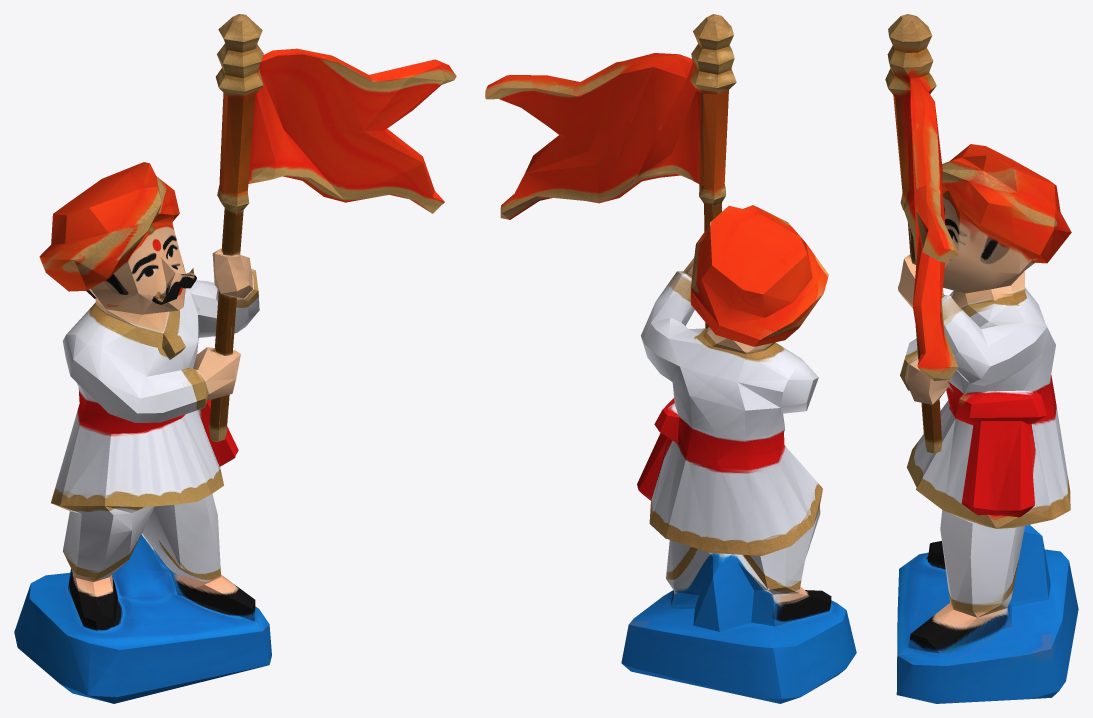
The model's file is Flag Bearer.glb.
The picture shows the model from 3 angles, left to right: view 1: azimuth 30°, elevation 25°; view 2: azimuth 150°, elevation 25°; view 3: azimuth 270°, elevation 25°; orthographic projection. The views are drawn at different scales.
Visible parts, largest first — view 1: mesh_000; view 2: mesh_000; view 3: mesh_000.
Part boxes in pixels (x1,y1,x2,y2): mesh_000: (14,14,456,703); mesh_000: (485,14,856,703); mesh_000: (885,14,1078,703).
Bounding box in the file's own units: 0.5933 × 0.9521 × 0.2476.
1 material, 1 textured.
